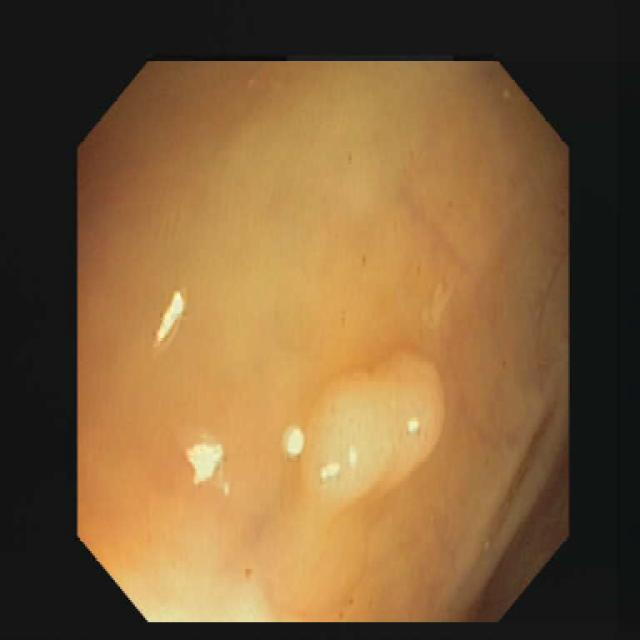tumor: (285, 349, 443, 507)
